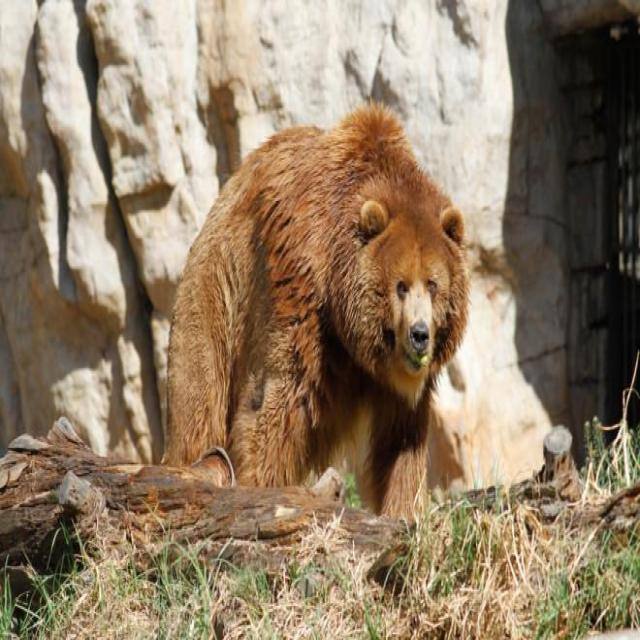Bear: (161, 102, 471, 522)
